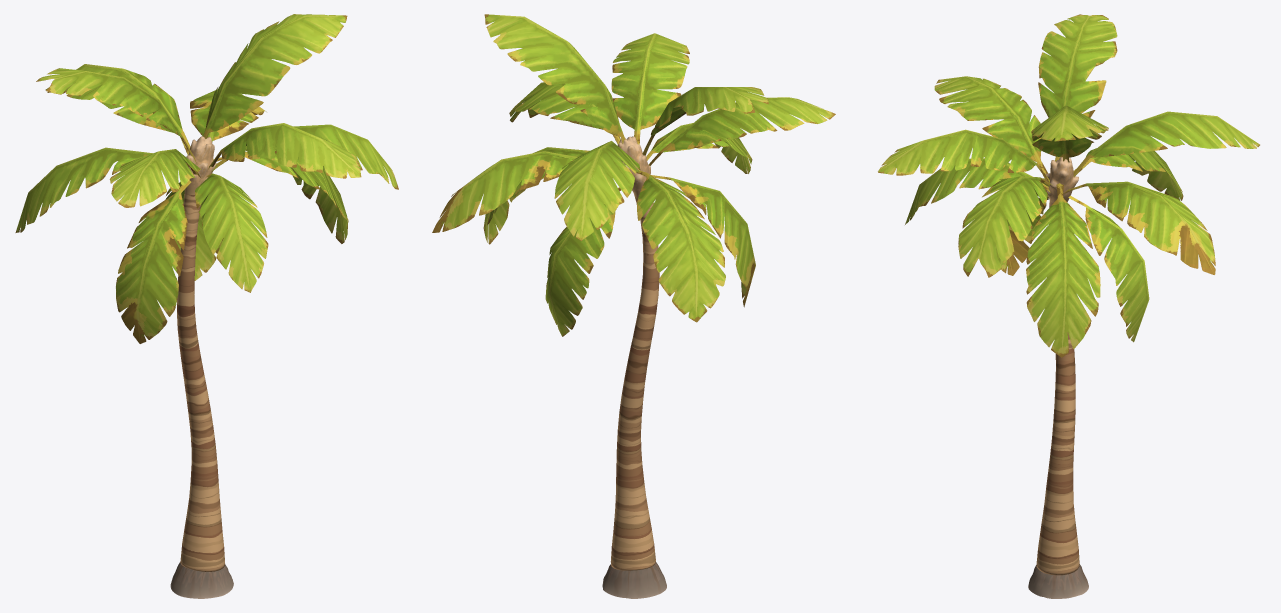
The model's file is Palm_01_LODs.fbx.
3 views of the same model, side by side, from view 1: azimuth 30°, elevation 25°; view 2: azimuth 150°, elevation 25°; view 3: azimuth 270°, elevation 25° (orthographic). The views are drawn at different scales.
Visible parts, largest first — view 1: Palm_01_LOD0; view 2: Palm_01_LOD0; view 3: Palm_01_LOD0.
Part boxes in pixels (left/top/right/bottom): Palm_01_LOD0: left=15, top=14, right=398, bottom=598; Palm_01_LOD0: left=432, top=14, right=835, bottom=598; Palm_01_LOD0: left=878, top=14, right=1259, bottom=598.
Size of what is drawn, in the model's own units: 370 by 625 by 429.
